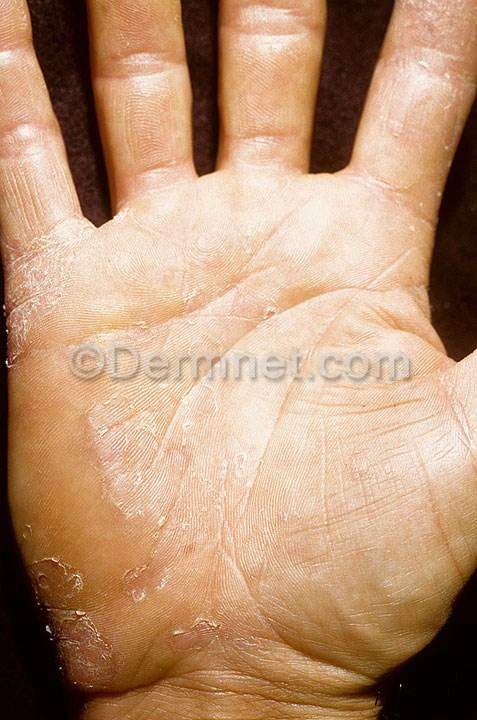Eczema: (0, 515, 155, 686), (0, 242, 78, 370), (401, 82, 477, 210)
